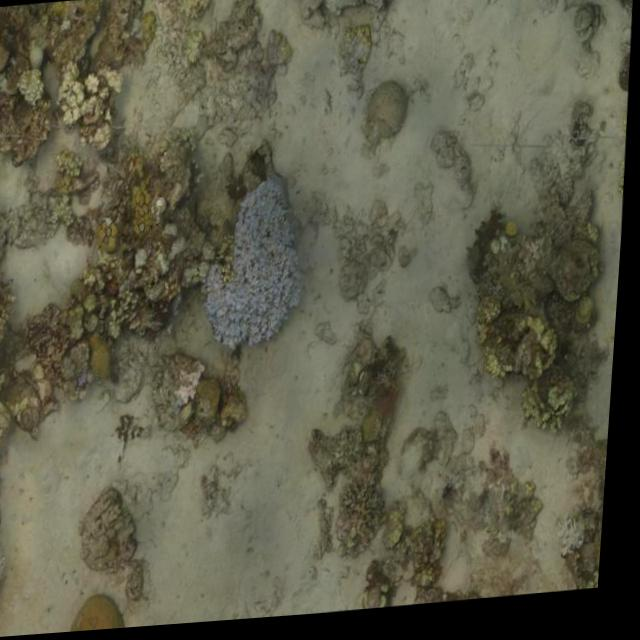Bleached Coral: (207, 185, 319, 357), (49, 61, 115, 143), (9, 53, 51, 114), (0, 525, 12, 626)
